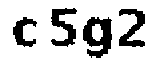2: (117, 6, 149, 50)
5: (48, 4, 79, 51)
c: (11, 18, 37, 49)
g: (82, 16, 112, 60)
